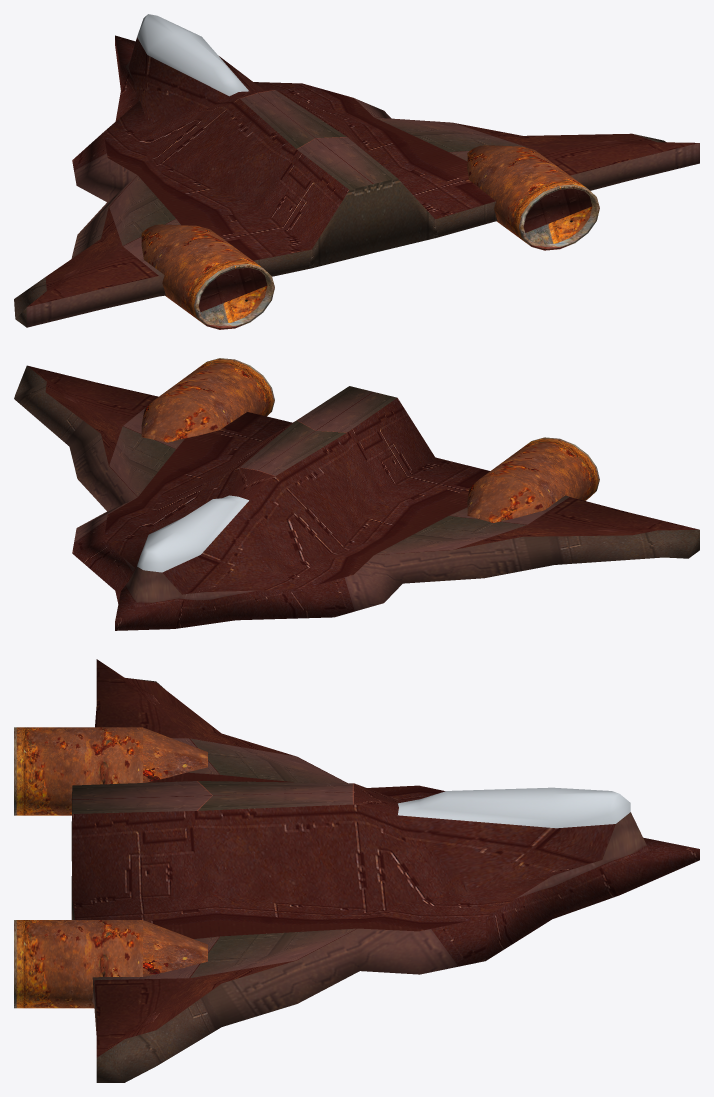
The model's file is boss_1-2.fbx.
The picture shows the model from 3 angles, top to bottom: view 1: azimuth 30°, elevation 25°; view 2: azimuth 150°, elevation 25°; view 3: azimuth 270°, elevation 25°; orthographic projection. The views are drawn at different scales.
Visible parts, largest first — view 1: Cube, Booster_000, Booster_001; view 2: Cube, Booster_000, Booster_001; view 3: Cube, Booster_001, Booster_000.
Part boxes in pixels (bbox=[...]): Cube: bbox=[14, 14, 699, 327]; Booster_000: bbox=[141, 224, 274, 329]; Booster_001: bbox=[467, 145, 599, 250]; Cube: bbox=[14, 365, 699, 630]; Booster_000: bbox=[467, 437, 599, 522]; Booster_001: bbox=[141, 358, 274, 442]; Cube: bbox=[71, 659, 699, 1082]; Booster_001: bbox=[14, 920, 207, 1008]; Booster_000: bbox=[14, 727, 207, 815].
Size of the model in its own units: 8.29 by 1.1 by 6.02.
